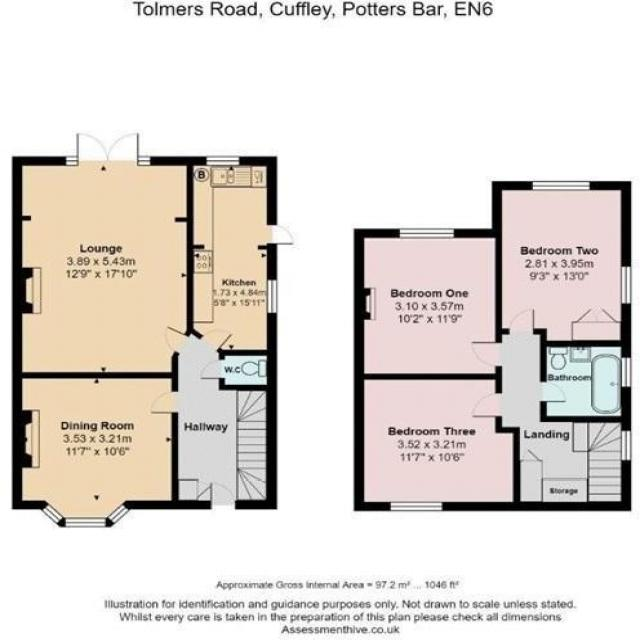DOOR: (196, 328, 234, 354), (470, 341, 504, 368), (471, 392, 504, 418), (209, 481, 237, 511), (164, 324, 191, 354), (508, 308, 535, 336), (264, 223, 296, 246), (150, 390, 179, 415), (538, 380, 568, 403), (199, 358, 227, 381)
DOUBLE DOOR: (76, 130, 139, 167)
ROOM: (12, 131, 197, 381), (10, 370, 179, 529), (351, 226, 504, 382), (491, 180, 632, 347), (352, 373, 520, 511), (184, 154, 297, 357)
WINDOW: (531, 179, 591, 192), (399, 227, 456, 240), (389, 500, 443, 512), (39, 502, 65, 526), (106, 502, 132, 526), (619, 265, 632, 305), (64, 516, 107, 528), (265, 279, 279, 314), (619, 429, 633, 462), (206, 154, 241, 167), (620, 357, 633, 389), (65, 155, 79, 167), (138, 155, 151, 167)
